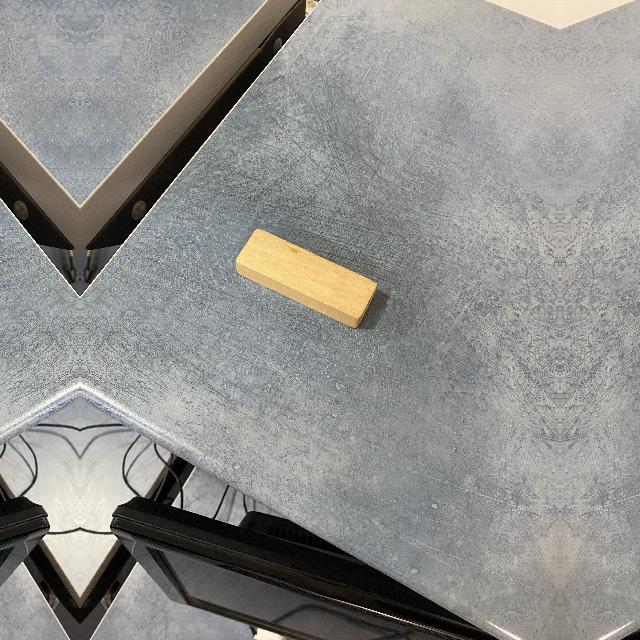jenga: (232, 229, 377, 321)
